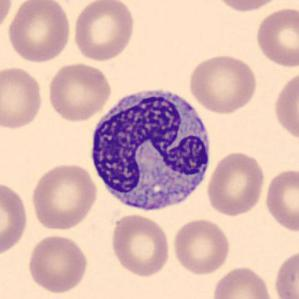Monocyte: (85, 81, 217, 220)
RBC: (29, 160, 99, 232), (187, 52, 259, 114), (6, 0, 73, 64), (205, 149, 267, 218), (45, 61, 113, 123), (70, 0, 136, 63), (109, 212, 172, 278), (26, 233, 90, 295), (170, 216, 232, 276), (0, 64, 45, 131), (253, 5, 299, 69), (262, 166, 298, 234), (0, 178, 30, 258), (210, 264, 278, 299), (272, 69, 298, 145), (272, 247, 297, 299), (210, 0, 284, 14), (0, 1, 14, 35)
